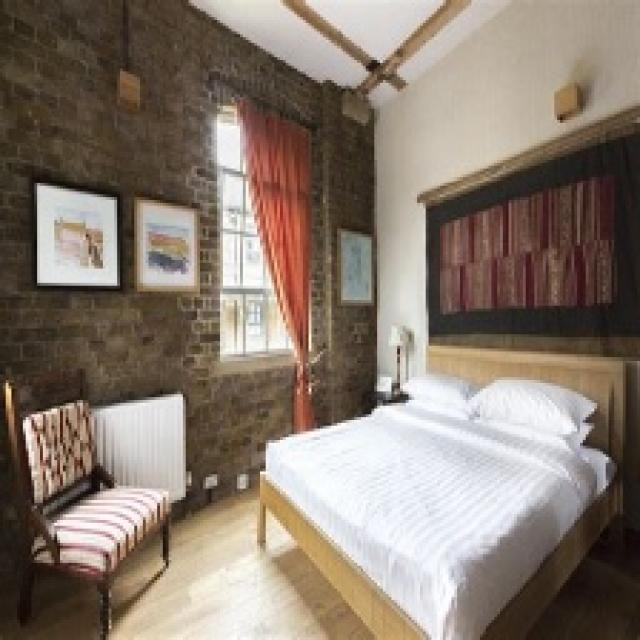Bed: (254, 343, 626, 637)
